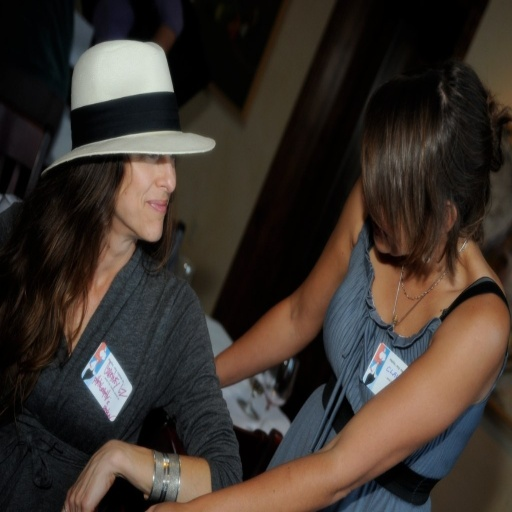hand: (80, 429, 160, 505), (145, 503, 157, 510)
